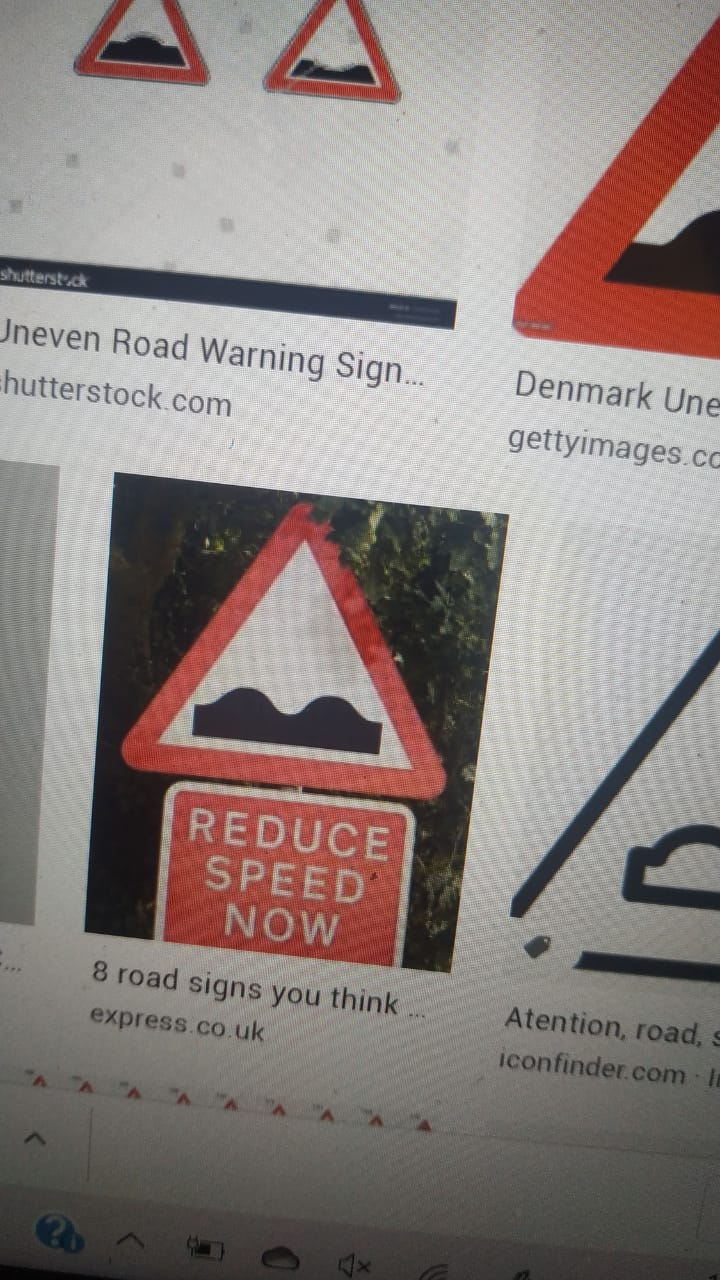UNEVEN ROAD: (113, 448, 501, 808), (500, 15, 720, 368)
